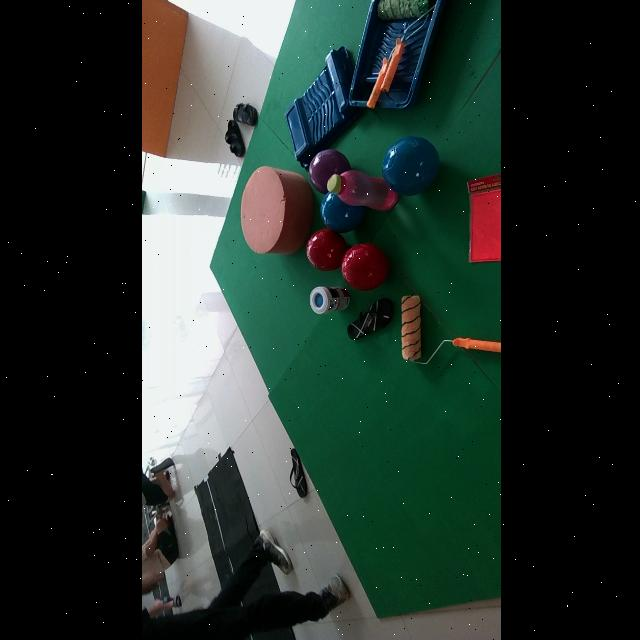B: (380, 137, 438, 195), (318, 193, 364, 233)
P: (308, 149, 348, 194)
R: (340, 244, 388, 291), (304, 228, 347, 272)
